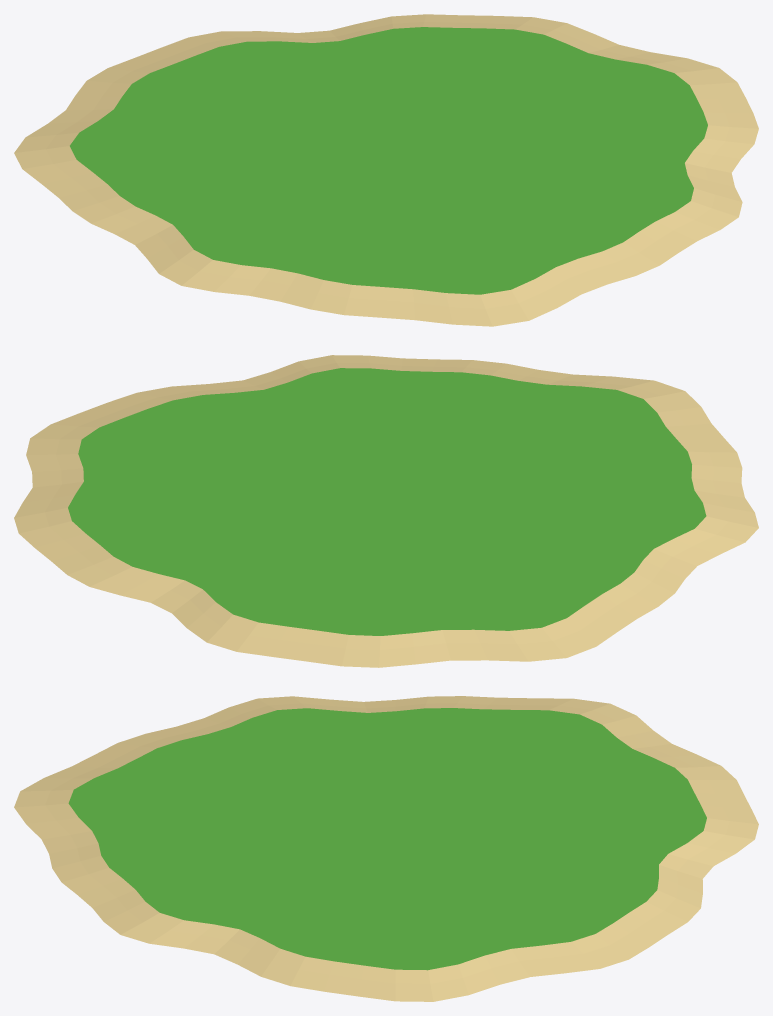
Rendered from island.glb.
3 views of the same model, one above another, from view 1: azimuth 30°, elevation 25°; view 2: azimuth 150°, elevation 25°; view 3: azimuth 270°, elevation 25° (orthographic). The views are drawn at different scales.
Parts seen in each view (by area): view 1: IslandGround; view 2: IslandGround; view 3: IslandGround.
Boxes of the visible parts, x1=… form: IslandGround: x1=14, y1=14, x2=758, y2=326; IslandGround: x1=14, y1=355, x2=758, y2=667; IslandGround: x1=14, y1=696, x2=758, y2=1001.
Size of what is drawn, in the model's own units: 99.44 by 1.3 by 102.
